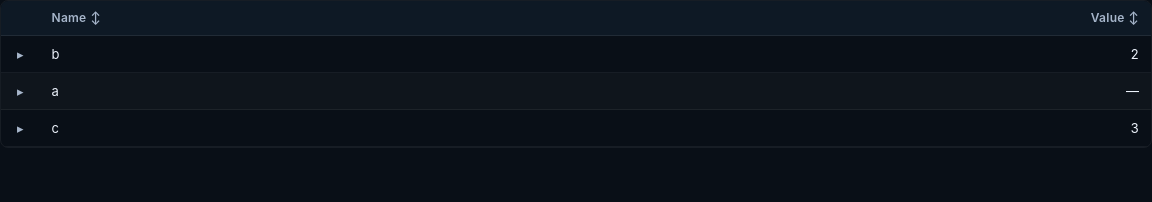
Test case: DataTable › expands a row for detail with a keyboard-reachable control
This screenshot has width=1152, height=202.
What coordinates should you click on to do the following:
click the 1st button "▸"
I would click on:
 (20, 54)
Its box is [13, 44, 28, 64].
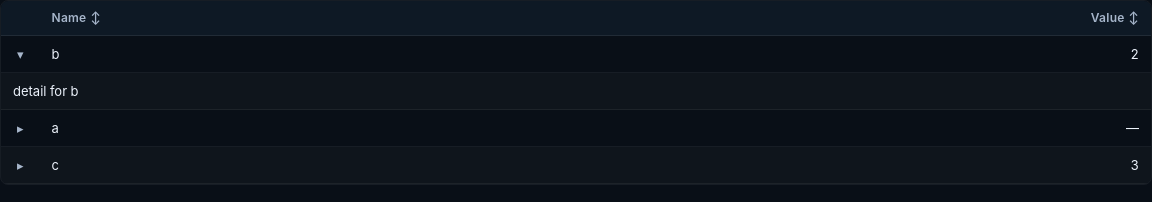
Check: the text "detail for b" is shown, box [13, 83, 78, 99]
